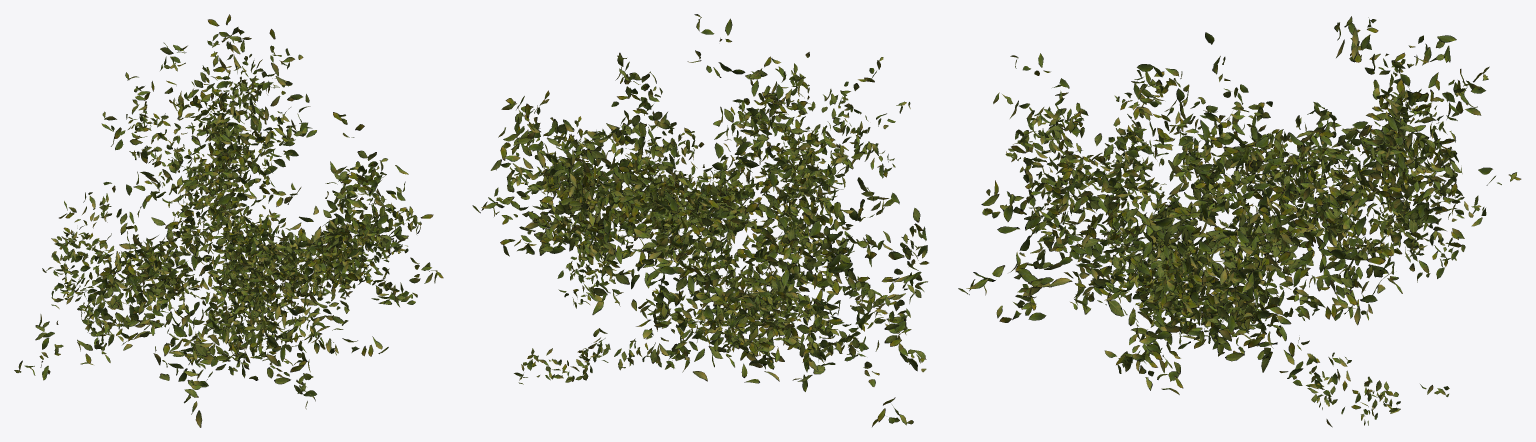
File: island_tree_01_L0_hojas.glb
3 renders of one model, left to right at view 1: azimuth 30°, elevation 25°; view 2: azimuth 150°, elevation 25°; view 3: azimuth 270°, elevation 25°, orthographic. The views are drawn at different scales.
Visible parts, largest first — view 1: island_tree_01_LOD0; view 2: island_tree_01_LOD0; view 3: island_tree_01_LOD0.
Part boxes in pixels (bbox=[...]): island_tree_01_LOD0: bbox=[14, 14, 443, 427]; island_tree_01_LOD0: bbox=[472, 14, 928, 426]; island_tree_01_LOD0: bbox=[958, 16, 1521, 427].
Bounding box in the file's own units: 4.81 × 3.51 × 4.86.
Materials: 1 (1 with a texture image).
